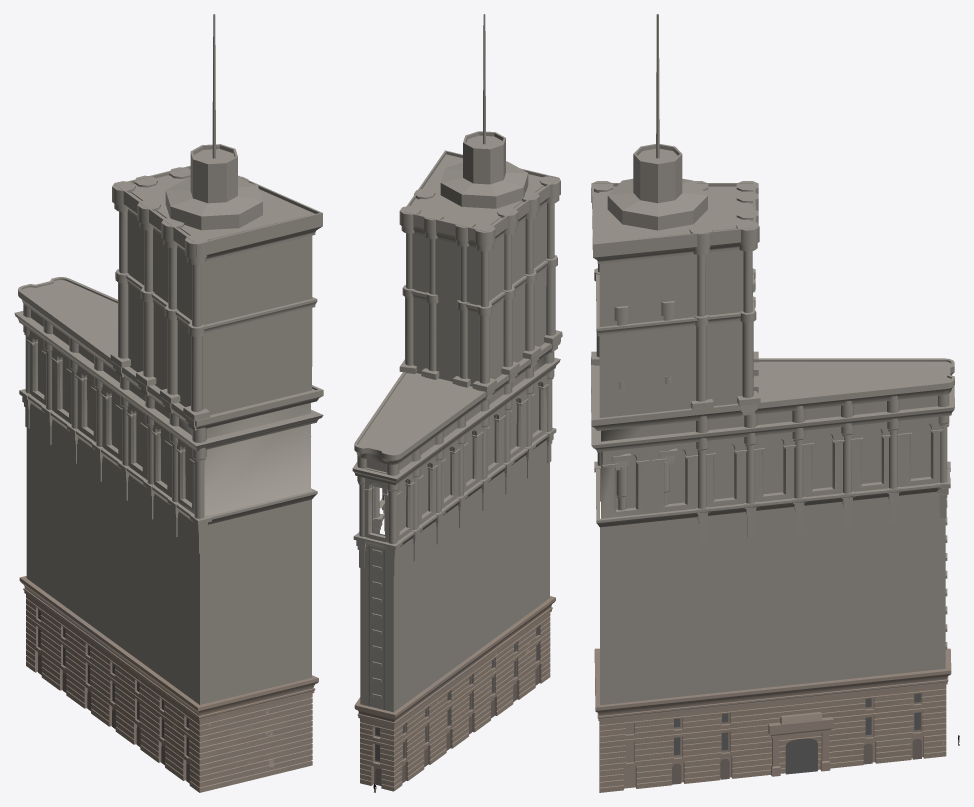
The model's file is times_square_wedge_building.glb.
3 renders of one model, left to right at view 1: azimuth 30°, elevation 25°; view 2: azimuth 150°, elevation 25°; view 3: azimuth 270°, elevation 25°, orthographic. The views are drawn at different scales.
Parts seen in each view (by area): view 1: times_square_wedge_building.times_square_wedge_building; view 2: times_square_wedge_building.times_square_wedge_building; view 3: times_square_wedge_building.times_square_wedge_building.
Part boxes in pixels (<box>): times_square_wedge_building.times_square_wedge_building: <box>14,14,323,792</box>; times_square_wedge_building.times_square_wedge_building: <box>352,14,562,792</box>; times_square_wedge_building.times_square_wedge_building: <box>591,14,959,792</box>.
Size of the model in its own units: 38.75 by 211 by 94.67.
Materials: 2 (2 with a texture image).
